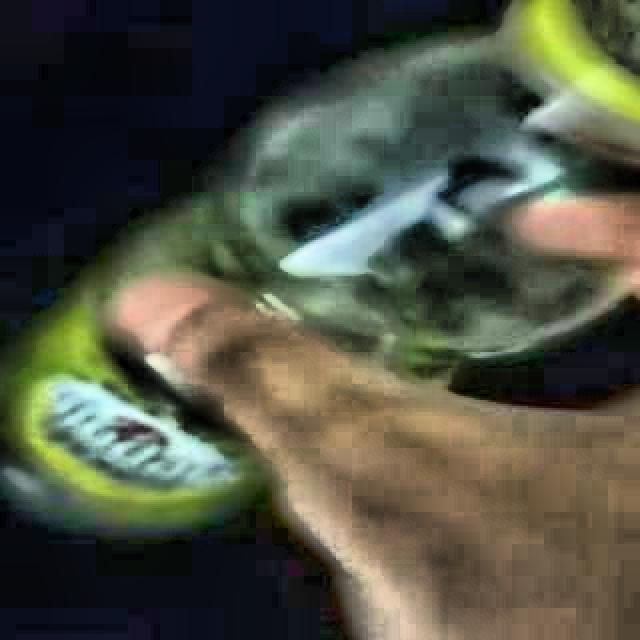plastic: (0, 0, 640, 520)
